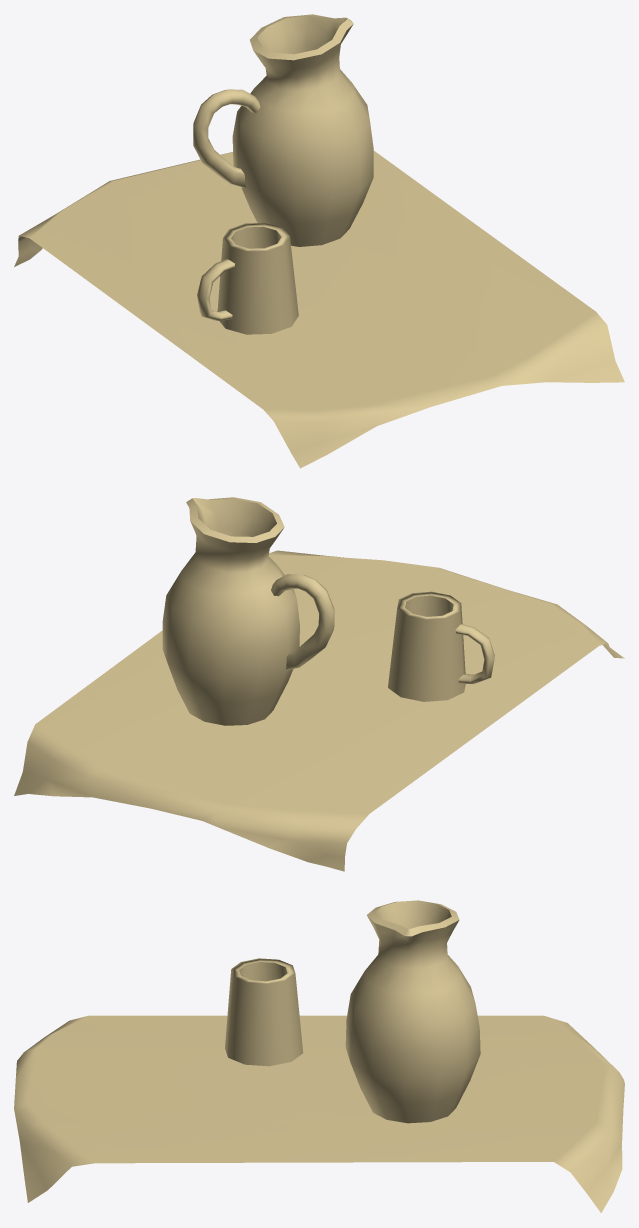
The model's file is table_3.fbx.
3 views of the same model, one above another, from view 1: azimuth 30°, elevation 25°; view 2: azimuth 150°, elevation 25°; view 3: azimuth 270°, elevation 25° (orthographic). The views are drawn at different scales.
Parts seen in each view (by area): view 1: table_4; view 2: table_4; view 3: table_4.
Boxes of the visible parts, x1,y1,x2,y2 form: table_4: [14, 14, 624, 468]; table_4: [14, 497, 624, 871]; table_4: [14, 900, 624, 1212].
Size of the model in its own units: 59.76 by 43.28 by 96.36.
